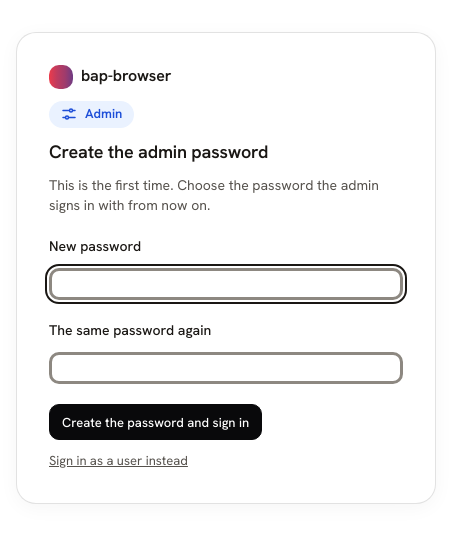
it: the first time: the admin’s password is made (spec 4.11) › says what the service said of a password it did not take
Step 1. Type "short" into the password field labelled "New password" → [226, 284], box 49,268 -> 403,300
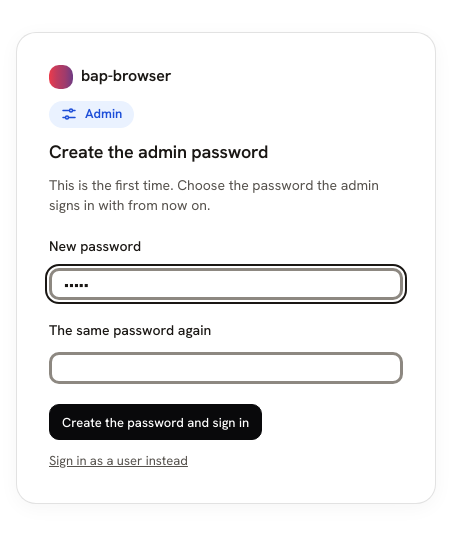
Step 2. Type "short" into the password field labelled "The same password again" → [226, 368], box 49,352 -> 403,384
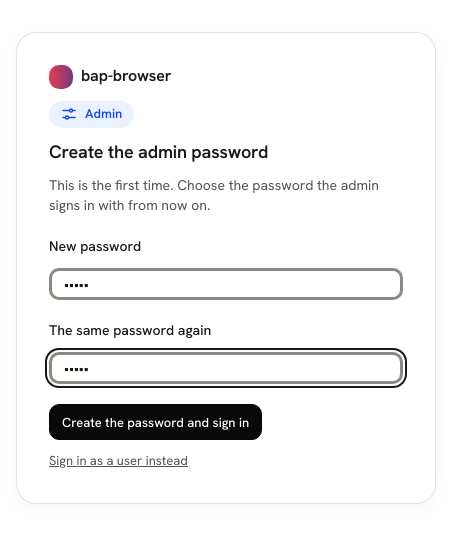
Step 3. Click the button "Create the password and sign in" → [156, 422], box 49,404 -> 262,440
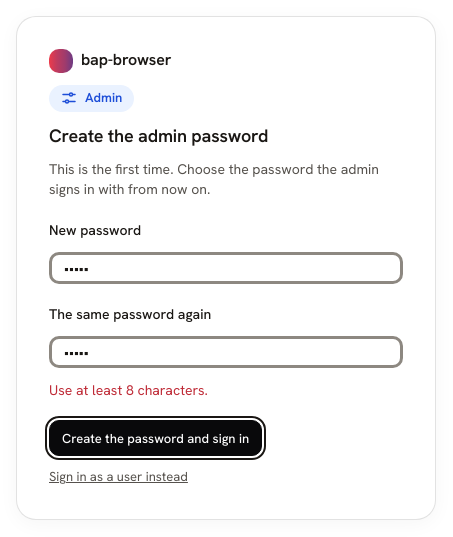
Result: the message reads "Use at least 8 characters." at 49,381 -> 208,399
